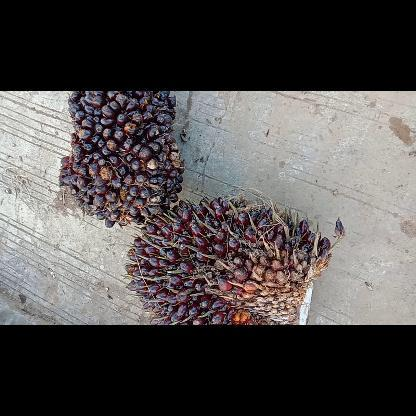TBS mentah: (124, 198, 346, 324), (60, 90, 184, 226)
